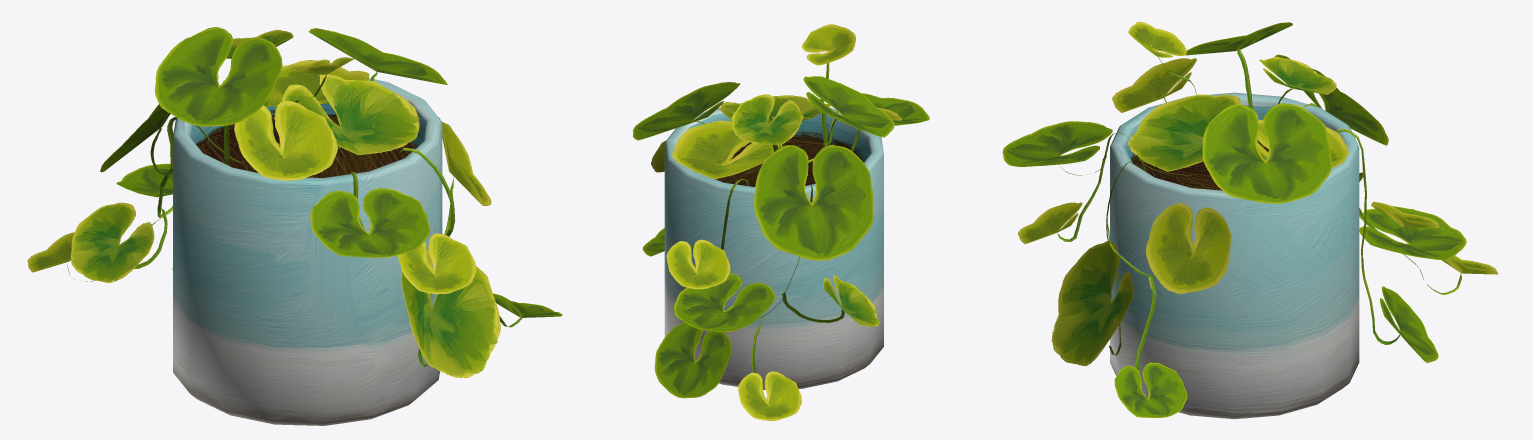
File: violet.fbx
The picture shows the model from 3 angles, left to right: view 1: azimuth 30°, elevation 25°; view 2: azimuth 150°, elevation 25°; view 3: azimuth 270°, elevation 25°; orthographic projection. The views are drawn at different scales.
Visible parts, largest first — view 1: Cylinder, Plane.001, Plane.015, Plane.008, Plane.004, Plane.002, Plane.013, Plane.009, GP_Layer, Plane, Plane.003, Plane.006 (+5 smaller); view 2: Cylinder, Plane.014, Plane.012, Plane.010, Plane.003, Plane.001, Plane.005, Plane, Plane.011, Plane.016, Plane.007, Plane.013 (+4 smaller); view 3: Cylinder, Plane, Plane.015, Plane.006, Plane.004, Plane.008, Plane.010, Plane.017, GP_Layer, Plane.002, Plane.012, Plane.014 (+7 smaller).
Part boxes in pixels (x1,y1,x2,y2): Cylinder: [173, 78, 442, 425]; Plane.001: [155, 27, 282, 126]; Plane.015: [401, 249, 500, 377]; Plane.008: [310, 188, 430, 257]; Plane.004: [282, 74, 419, 155]; Plane.002: [234, 100, 337, 180]; Plane.013: [70, 202, 154, 282]; Plane.009: [397, 233, 476, 294]; GP_Layer: [67, 72, 522, 366]; Plane: [308, 28, 447, 84]; Plane.003: [265, 60, 369, 106]; Plane.006: [439, 117, 491, 205]; Cylinder: [664, 103, 883, 389]; Plane.014: [754, 144, 873, 260]; Plane.012: [654, 322, 731, 398]; Plane.010: [674, 273, 774, 331]; Plane.003: [672, 120, 779, 179]; Plane.001: [803, 76, 894, 137]; Plane.005: [731, 94, 803, 144]; Plane: [633, 82, 740, 140]; Plane.011: [666, 239, 730, 289]; Plane.016: [738, 371, 801, 420]; Plane.007: [802, 24, 855, 65]; Plane.013: [823, 275, 879, 326]; Cylinder: [1110, 92, 1359, 419]; Plane: [1202, 103, 1331, 203]; Plane.015: [1051, 241, 1133, 366]; Plane.006: [1146, 203, 1231, 293]; Plane.004: [1127, 94, 1240, 171]; Plane.008: [1002, 121, 1112, 166]; Plane.010: [1359, 205, 1466, 260]; Plane.017: [1114, 362, 1187, 417]; GP_Layer: [1057, 50, 1461, 399]; Plane.002: [1112, 58, 1196, 112]; Plane.012: [1379, 286, 1438, 362]; Plane.014: [1275, 54, 1388, 145].
Bounding box in the file's own units: 346 × 298 × 429.
